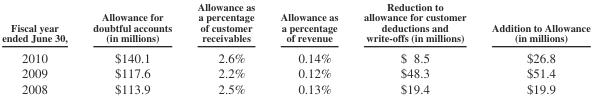table: (1, 0, 589, 95)
table column: (350, 0, 478, 95), (478, 0, 589, 95), (79, 0, 183, 95), (183, 0, 267, 95), (267, 0, 350, 95), (1, 0, 79, 95)
table column header: (1, 0, 589, 46)
table row: (1, 0, 589, 46), (1, 46, 589, 65), (1, 65, 589, 80), (1, 80, 589, 95)
